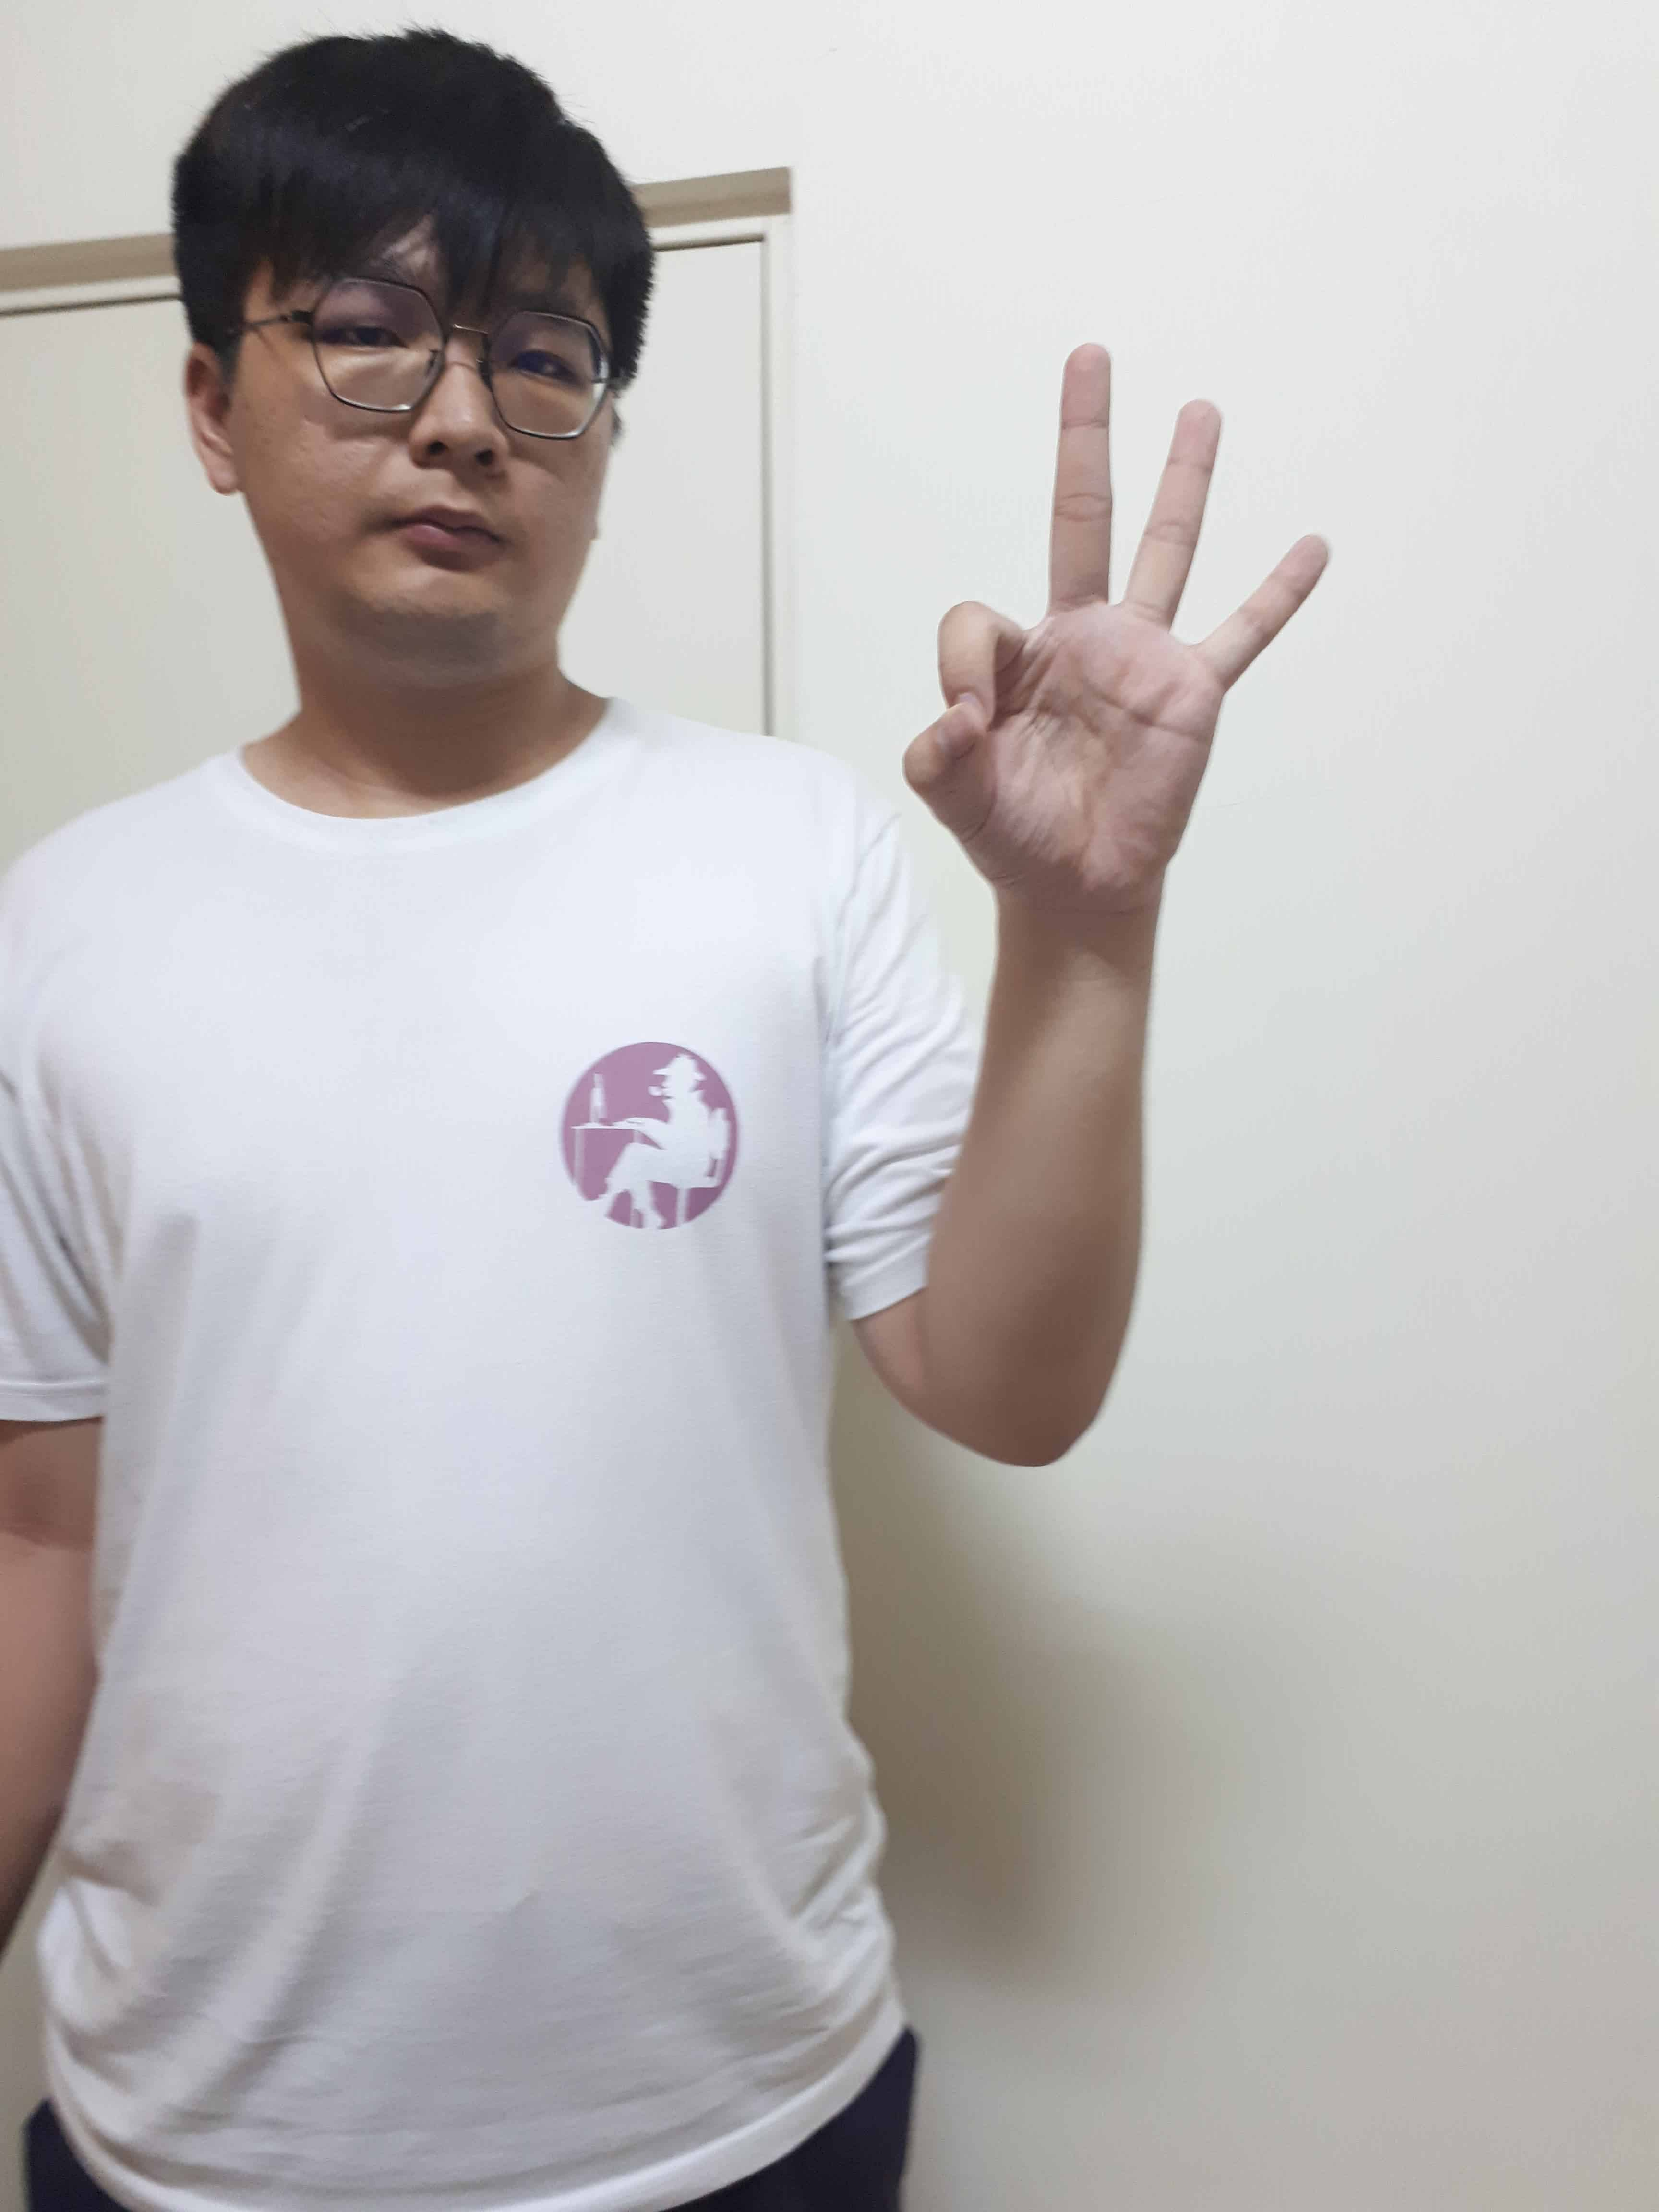ok: (892, 333, 1338, 932)
